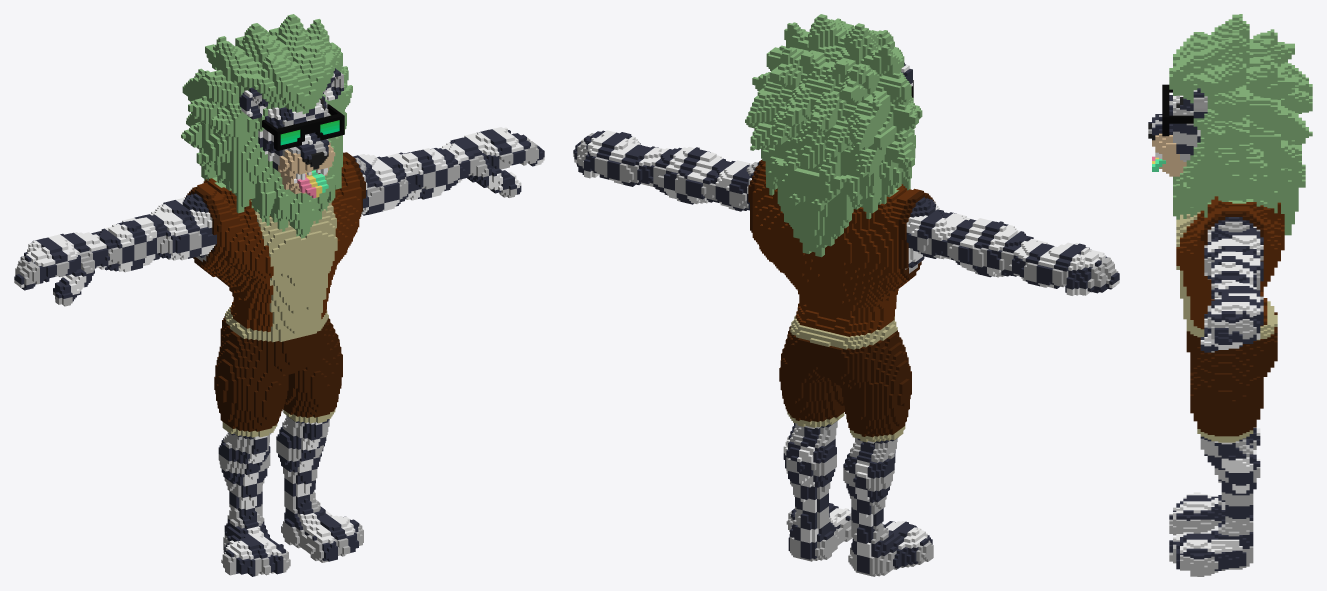
Rendered from 108-BdVBSHpo.glb.
3 renders of one model, left to right at view 1: azimuth 30°, elevation 25°; view 2: azimuth 150°, elevation 25°; view 3: azimuth 270°, elevation 25°, orthographic. The views are drawn at different scales.
Parts seen in each view (by area): view 1: rainbow_puke; view 2: rainbow_puke; view 3: rainbow_puke.
Part boxes in pixels (<box>): rainbow_puke: <box>14,14,544,576</box>; rainbow_puke: <box>573,14,1119,576</box>; rainbow_puke: <box>1148,14,1312,576</box>.
Bounding box in the file's own units: 17.2 × 16.5 × 4.7.
Materials: 5 (5 with a texture image).
